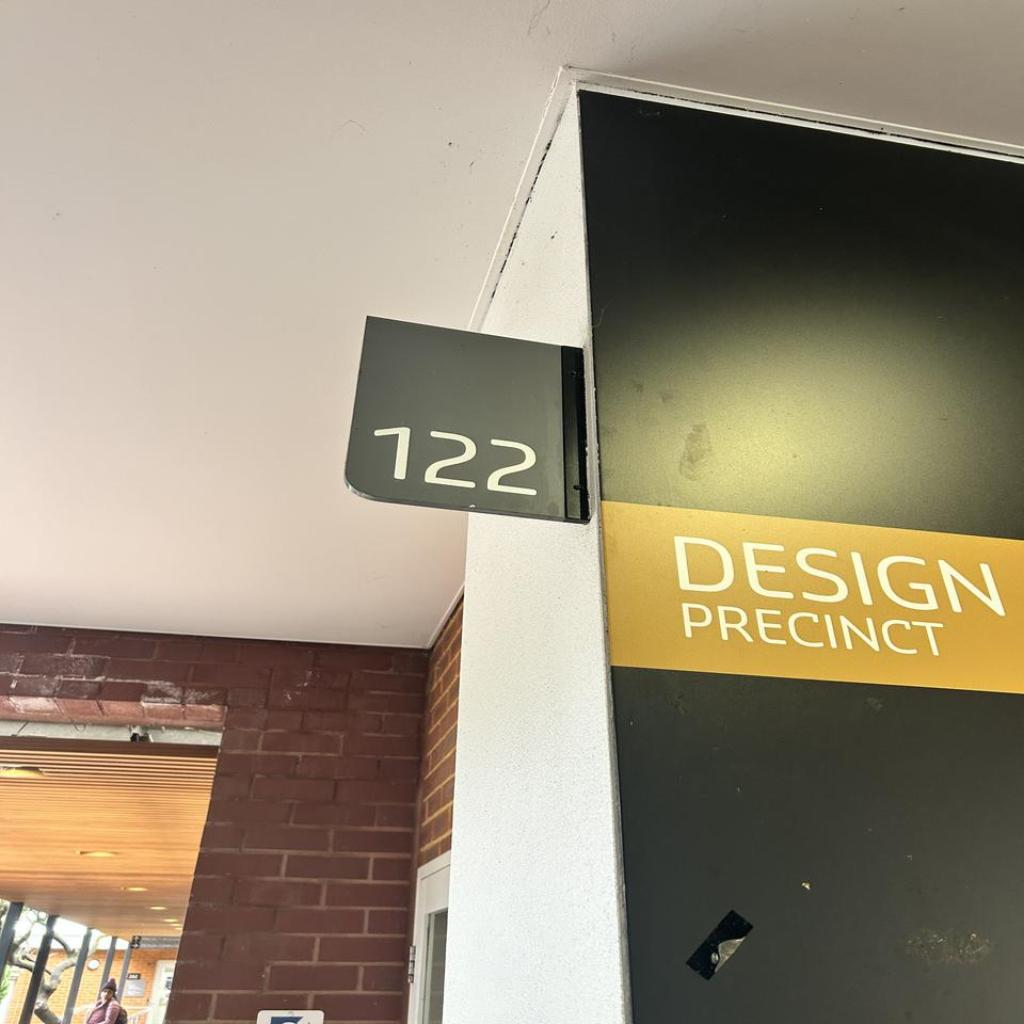BuildingCodes: (364, 415, 548, 507)
